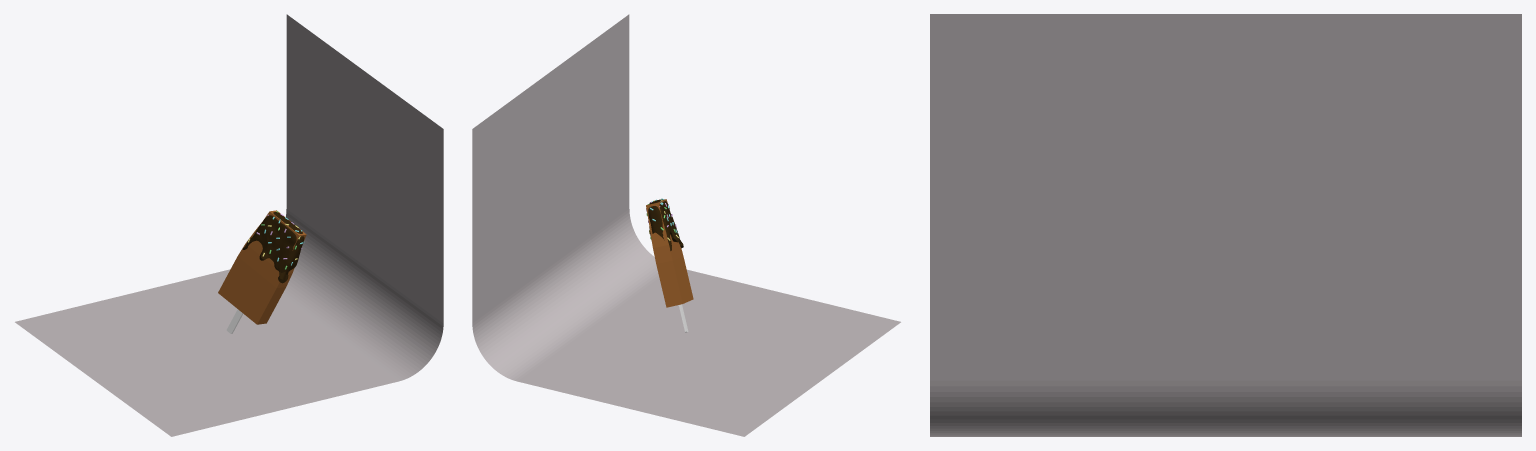
Rendered from icecream.glb.
3 renders of one model, left to right at view 1: azimuth 30°, elevation 25°; view 2: azimuth 150°, elevation 25°; view 3: azimuth 270°, elevation 25°, orthographic. The views are drawn at different scales.
Parts seen in each view (by area): view 1: Plane, ice cream.001, cream.001; view 2: Plane, ice cream.001, cream.001; view 3: Plane.
Boxes of the visible parts, x1,y1,x2,y2 form: Plane: (15,14,443,436); ice cream.001: (218,210,306,324); cream.001: (242,212,304,283); Plane: (472,14,900,436); ice cream.001: (646,199,693,307); cream.001: (647,199,683,250); Plane: (930,14,1521,436).
Size of the model in its own units: 11.26 by 9.55 by 11.26.
